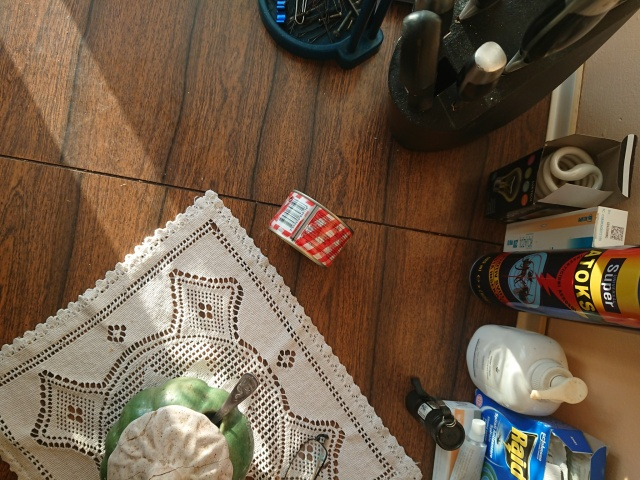Podravka Luncheon Meat 150g: (266, 187, 357, 271)
